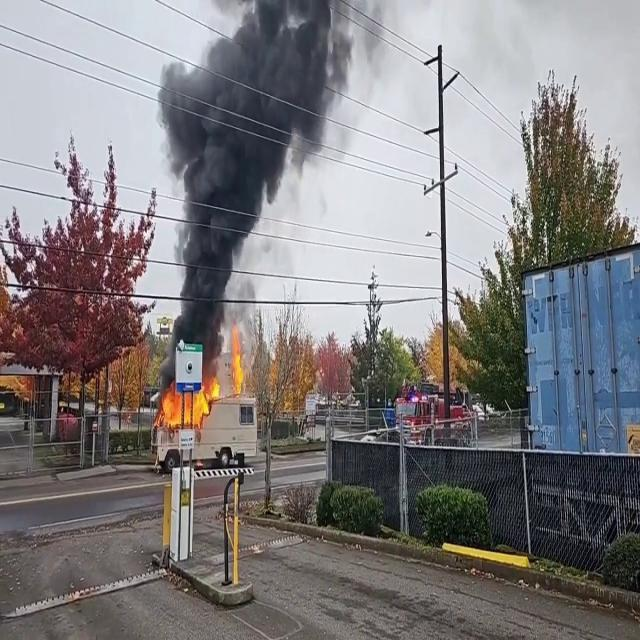Fire: (156, 376, 224, 428), (232, 331, 246, 396)
Smoke: (164, 1, 366, 361)
